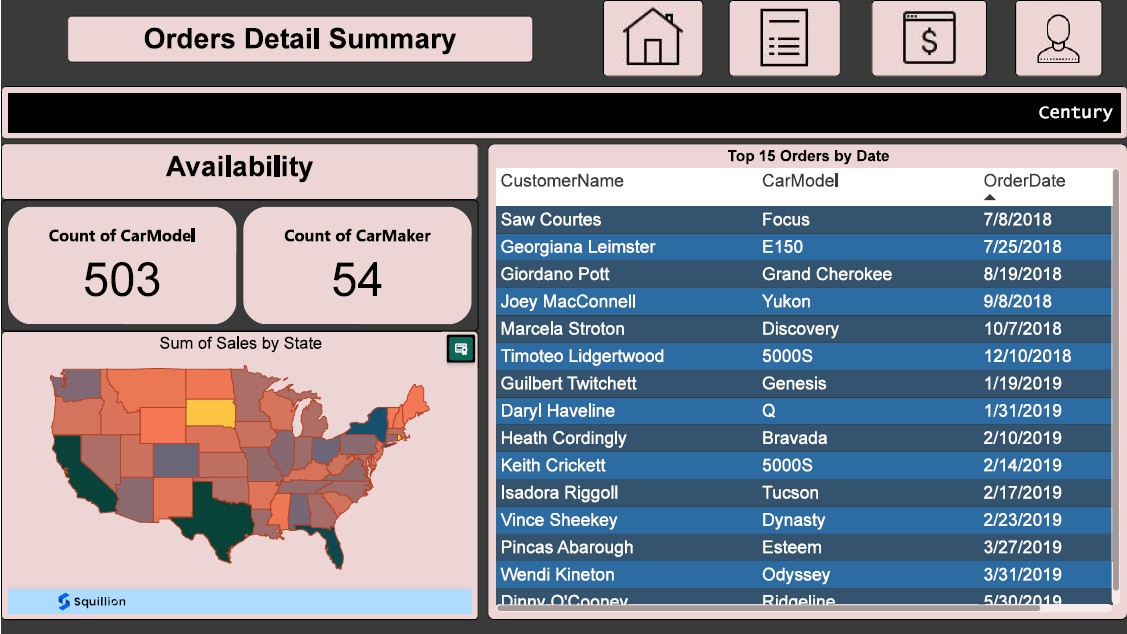

This screenshot's page, from the dashboard's own definition file:
{"tool":"powerbi","page":{"name":"Order","canvas":[1280,720],"ordinal":1},"visuals":[{"type":"textbox","box":[75.2,375.8,165,88.2],"z":0},{"type":"image","box":[683.3,0,113.4,87.1],"z":1000},{"type":"image","box":[1150.8,0,99.6,87.1],"z":2000},{"type":"image","box":[987.6,0,131.4,87.1],"z":3000},{"type":"image","box":[825.7,0,127.3,87.1],"z":4000},{"type":"shape","box":[0,103.6,1280.6,20.4],"z":5000},{"type":"textbox","box":[74.7,18,529.8,52.6],"z":6000},{"type":"shape","box":[0,142.5,1280.8,20.7],"z":7000},{"type":"cardVisual","fields":{"Data":["youtube cars.CarModel","youtube cars.CarMaker"]},"box":[0,226.8,542.2,149.4],"z":8000},{"type":"textbox","box":[0,163.2,542.2,63.6],"z":9000},{"type":"MapBySquillion","fields":{"value":["youtube cars.Sales"],"category":["youtube cars.State"]},"box":[0,376.2,542.2,327.8],"z":10000},{"type":"tableEx","title":"Top 15 Orders by Date","fields":{"Values":["youtube cars.CustomerName","youtube cars.CarModel","DateMaster.OrderDate"]},"box":[551.9,163.2,727.5,540.8],"z":11000},{"type":"ScrollingTextVisual1448795304508","fields":{"Category":["youtube cars.CarModel"],"Measure Absolute":["youtube cars.CarPrice"]},"box":[0,98.2,1279.4,59.5],"z":12000}]}

Visuals, with their boxes in screenshot pixels (x1, y1, x2, y2), scaled from the page's 1280x720 canvas onto the 1127x634 screenshot:
textbox: left=66, top=331, right=211, bottom=409
image: left=602, top=0, right=701, bottom=77
image: left=1013, top=0, right=1101, bottom=77
image: left=870, top=0, right=985, bottom=77
image: left=727, top=0, right=839, bottom=77
shape: left=0, top=91, right=1126, bottom=109
textbox: left=66, top=16, right=532, bottom=62
shape: left=0, top=125, right=1126, bottom=144
cardVisual - youtube cars.CarModel x youtube cars.CarMaker: left=0, top=200, right=477, bottom=331
textbox: left=0, top=144, right=477, bottom=200
MapBySquillion - youtube cars.Sales x youtube cars.State: left=0, top=331, right=477, bottom=620
"Top 15 Orders by Date" tableEx: left=486, top=144, right=1126, bottom=620
ScrollingTextVisual1448795304508 - youtube cars.CarModel x youtube cars.CarPrice: left=0, top=86, right=1126, bottom=139
